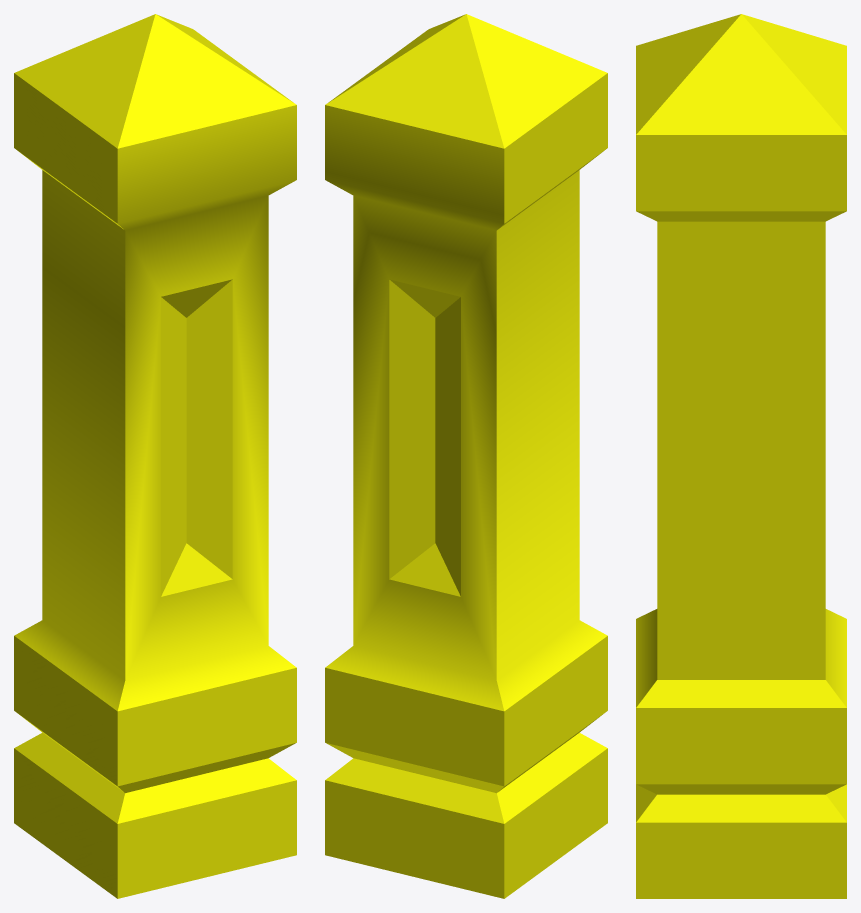
Rendered from kaykit-halloween-pillar.glb.
3 renders of one model, left to right at view 1: azimuth 30°, elevation 25°; view 2: azimuth 150°, elevation 25°; view 3: azimuth 270°, elevation 25°, orthographic.
Visible parts, largest first — view 1: pillar; view 2: pillar; view 3: pillar.
Part boxes in pixels (left/top/right/bottom): pillar: left=14, top=14, right=296, bottom=898; pillar: left=325, top=14, right=607, bottom=898; pillar: left=636, top=14, right=846, bottom=898.
Size of the model in its own units: 1 by 4.4 by 1.
